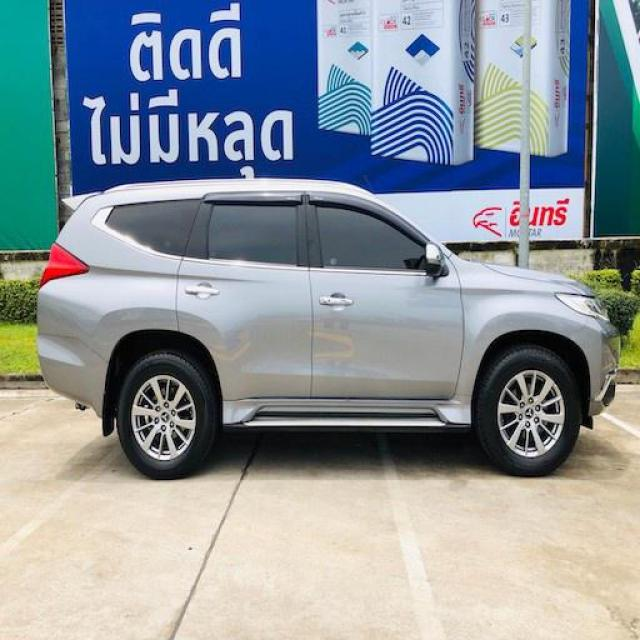back_right_door: (177, 191, 313, 401)
back_right_light: (36, 240, 92, 293)
front_right_door: (306, 191, 466, 400)
front_right_light: (557, 294, 612, 322)
right_mirror: (427, 240, 446, 275)
wheel: (119, 348, 581, 481)
